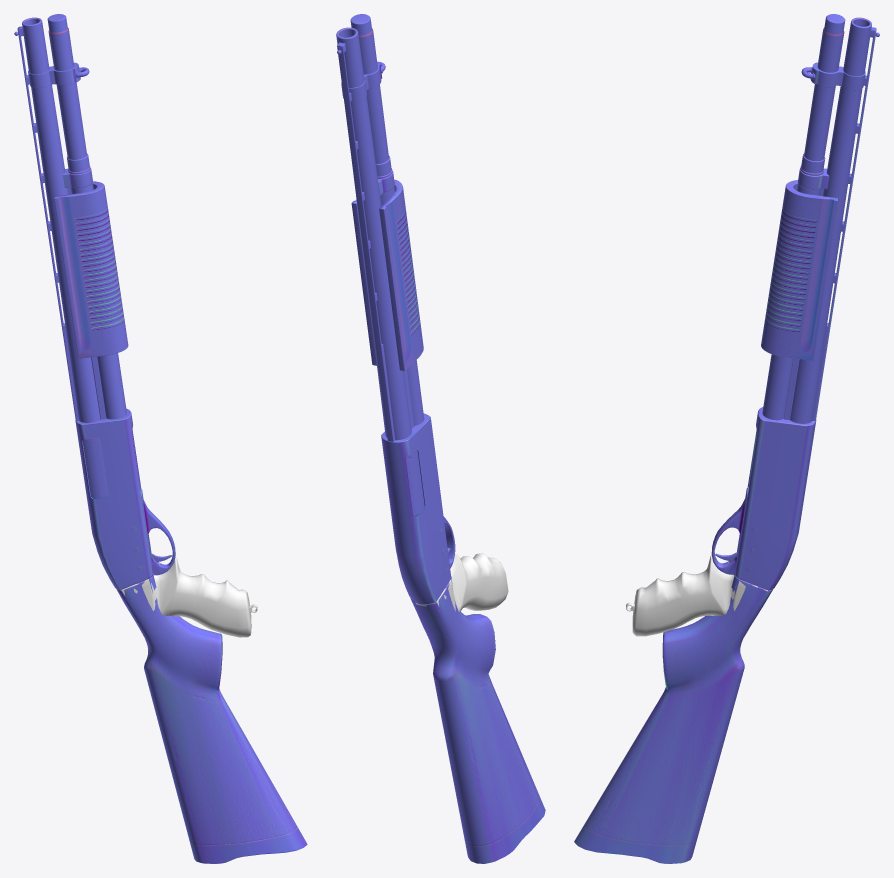
Rendered from mdlShotgun.fbx.
3 renders of one model, left to right at view 1: azimuth 90°, elevation 25°; view 2: azimuth 150°, elevation 25°; view 3: azimuth 270°, elevation 25°, orthographic. The views are drawn at different scales.
Parts seen in each view (by area): view 1: _24__Upgrades_Remington_M1100_Barrel_barrelm_0_3_0_0, _24__Upgrades_Remington_M1100_Grip_gripm_0_3_0_0, _24_reciever_0_3_0_0_001, Model; view 2: _24__Upgrades_Remington_M1100_Barrel_barrelm_0_3_0_0, _24__Upgrades_Remington_M1100_Grip_gripm_0_3_0_0, _24_reciever_0_3_0_0_001, Model; view 3: _24__Upgrades_Remington_M1100_Barrel_barrelm_0_3_0_0, _24__Upgrades_Remington_M1100_Grip_gripm_0_3_0_0, _24_reciever_0_3_0_0_001, Model.
Part boxes in pixels (left/top/right/bottom): _24__Upgrades_Remington_M1100_Barrel_barrelm_0_3_0_0: left=14, top=14, right=128, bottom=422; _24__Upgrades_Remington_M1100_Grip_gripm_0_3_0_0: left=117, top=574, right=307, bottom=863; _24_reciever_0_3_0_0_001: left=75, top=408, right=175, bottom=589; Model: left=116, top=557, right=257, bottom=637; _24__Upgrades_Remington_M1100_Barrel_barrelm_0_3_0_0: left=336, top=14, right=424, bottom=441; _24__Upgrades_Remington_M1100_Grip_gripm_0_3_0_0: left=410, top=577, right=545, bottom=863; _24_reciever_0_3_0_0_001: left=381, top=413, right=455, bottom=604; Model: left=415, top=551, right=508, bottom=611; _24__Upgrades_Remington_M1100_Barrel_barrelm_0_3_0_0: left=761, top=14, right=879, bottom=423; _24__Upgrades_Remington_M1100_Grip_gripm_0_3_0_0: left=574, top=573, right=772, bottom=863; _24_reciever_0_3_0_0_001: left=711, top=407, right=816, bottom=590; Model: left=626, top=556, right=773, bottom=636.
Size of the model in its own units: 1292 by 14724 by 4748.
Materials: 2 (1 with a texture image).
